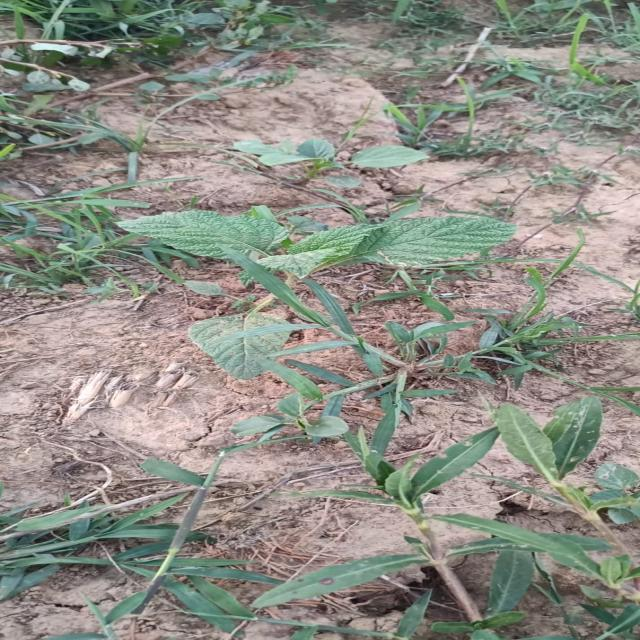plant: (118, 210, 516, 379)
